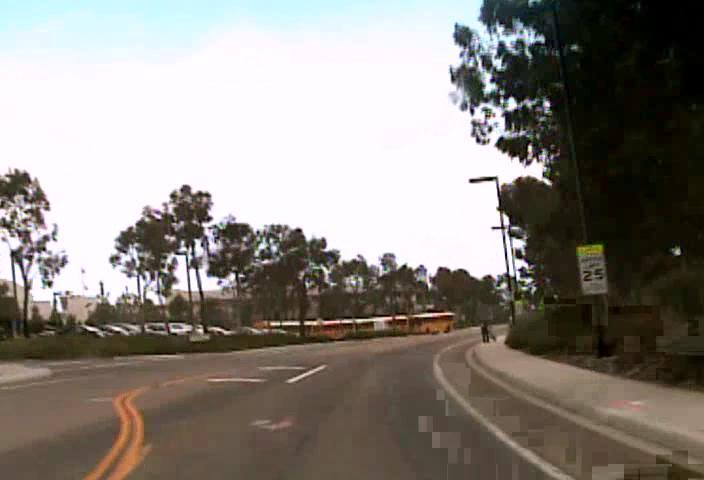schoolSpeedLimit25: (576, 243, 609, 295)
